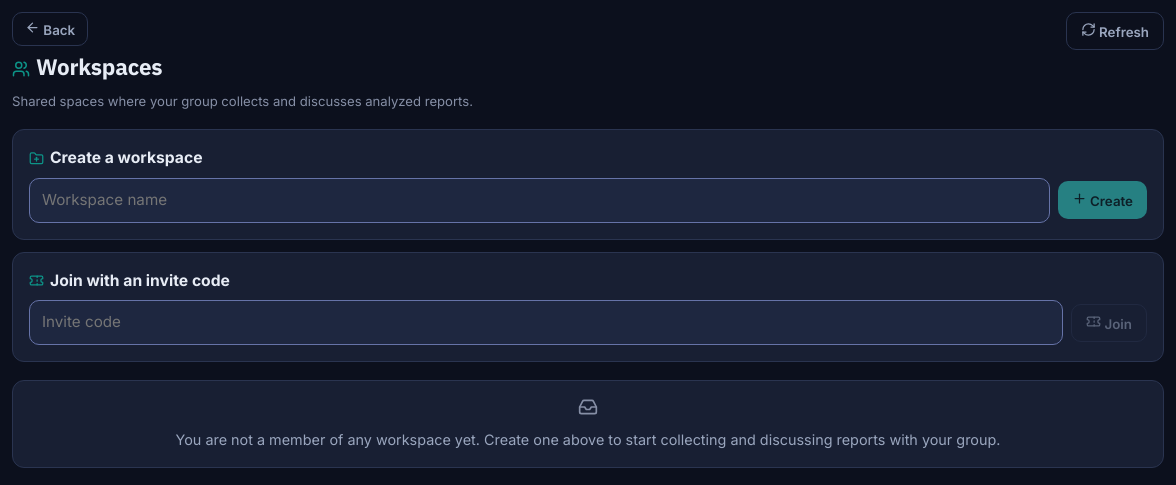
WorkspaceListView › presents the created workspace as selected with the reader as Owner (Req 1.5)
The image size is (1176, 485).
Expected: the text "Create one above to start collecting" is shown, x1=176 y1=431 x2=1000 y2=448
In the field named "new workspace name": [539, 200] box x1=29 y1=178 x2=1050 y2=223, type "My Class"
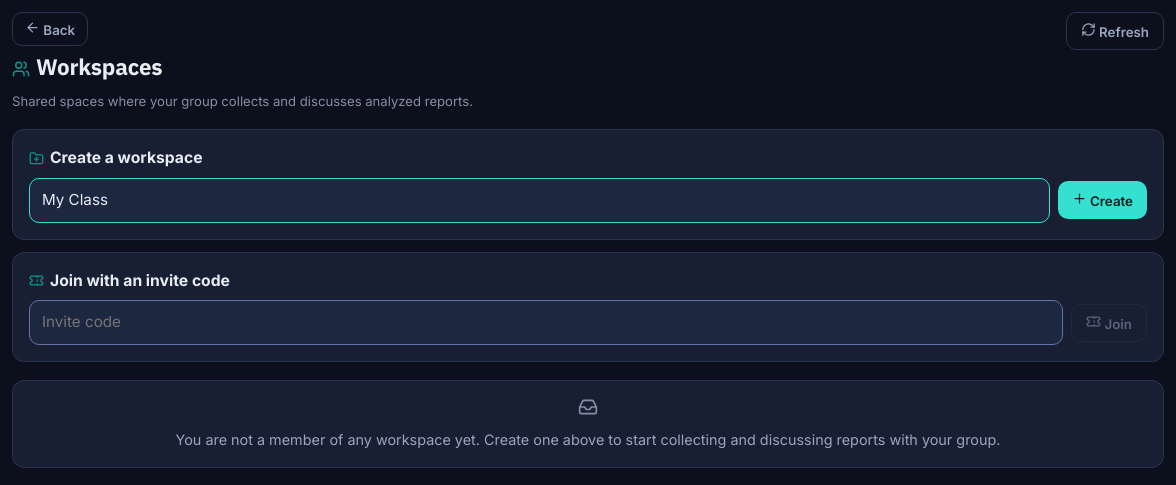
Click the button with aria-label "create workspace": [1102, 200] box x1=1058 y1=181 x2=1147 y2=219
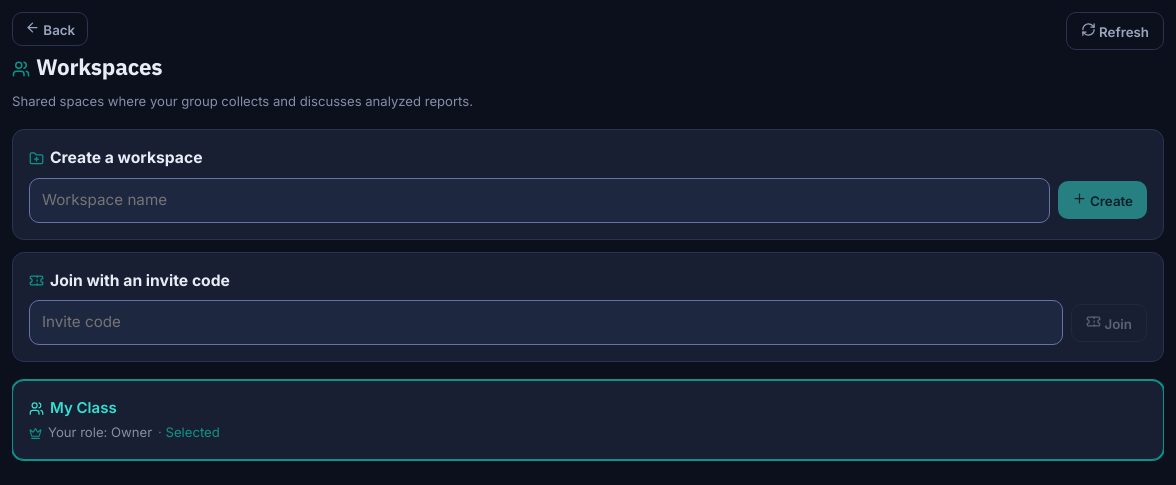
Now the text "Your role: Owner" is shown, box x1=48 y1=423 x2=152 y2=443
Now the text "· Selected" is shown, box x1=158 y1=423 x2=220 y2=443
